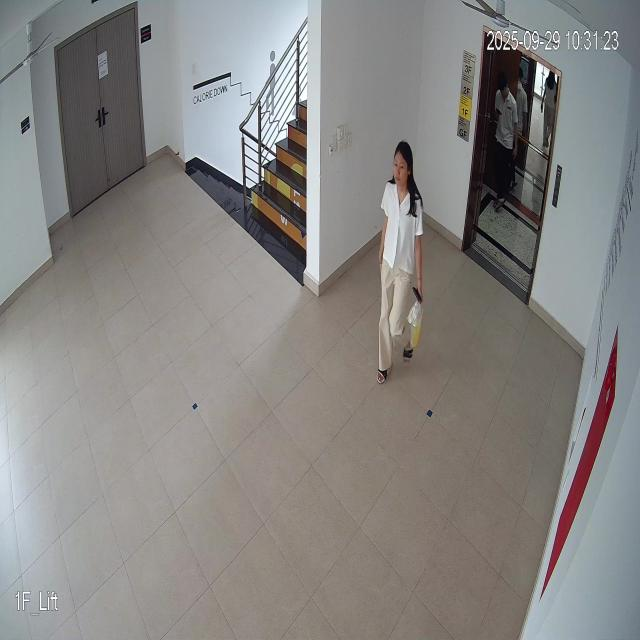face: (389, 136, 415, 191)
